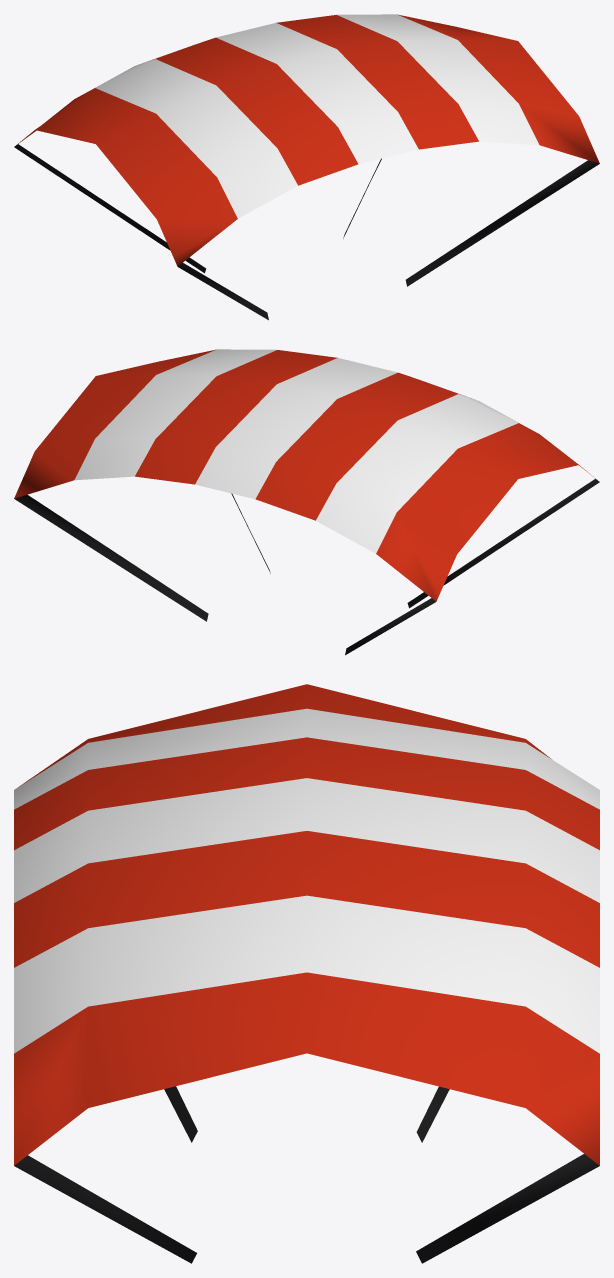
Rendered from parachute.glb.
3 views of the same model, one above another, from view 1: azimuth 30°, elevation 25°; view 2: azimuth 150°, elevation 25°; view 3: azimuth 270°, elevation 25° (orthographic). The views are drawn at different scales.
Parts seen in each view (by area): view 1: Plane; view 2: Plane; view 3: Plane.
Boxes of the visible parts, x1,y1,x2,y2 form: Plane: [14, 14, 599, 320]; Plane: [14, 349, 599, 655]; Plane: [14, 684, 599, 1263].
Size of the model in its own units: 2 by 1.01 by 1.34.
1 material, 1 textured.
